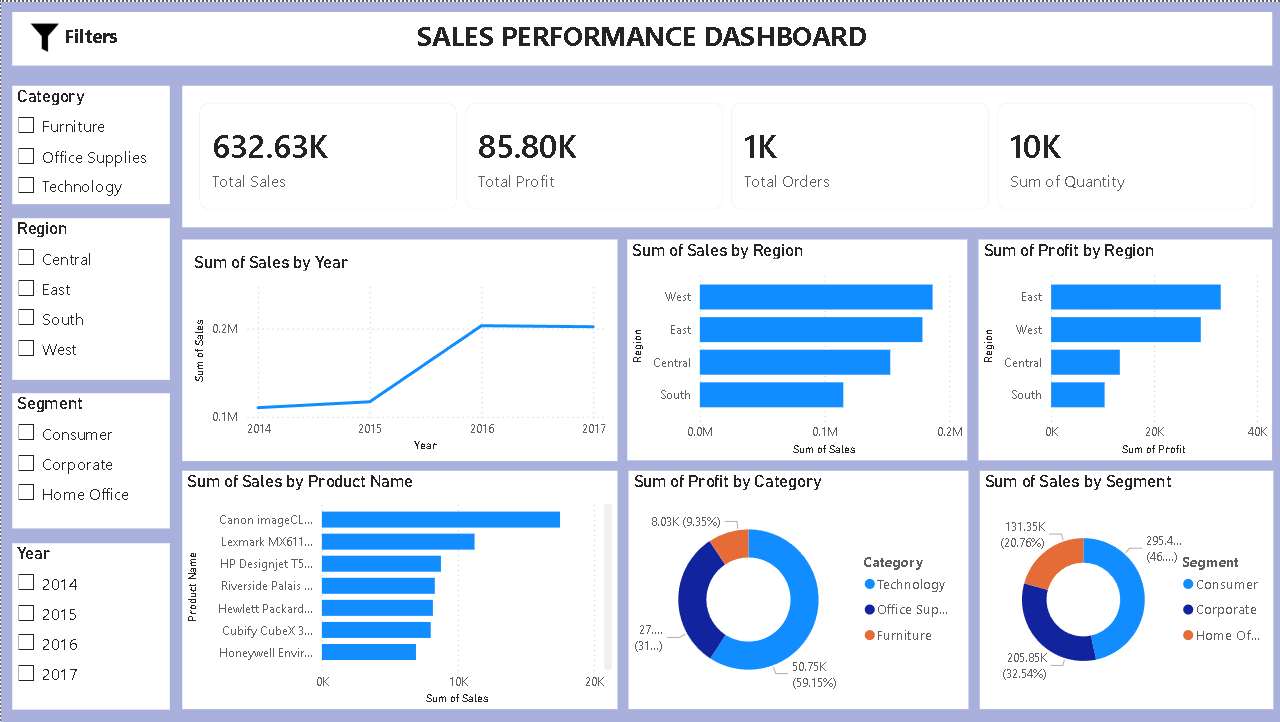

Layout of this report page (visuals, bound fields, positions):
{"tool":"powerbi","page":{"name":"Page 1","canvas":[1280,720],"ordinal":0},"visuals":[{"type":"textbox","box":[11,9.6,1259.7,53.5],"z":0},{"type":"cardVisual","fields":{"Data":["Sum(Sample - Superstore.Sales)","Sum(Sample - Superstore.Profit)","Sample - Superstore.Total Orders","Sum(Sample - Superstore.Quantity)"]},"box":[181.2,83.8,1090,141.2],"z":1000},{"type":"lineChart","fields":{"Y":["Sum(Sample - Superstore.Sales)"],"Category":["Sample - Superstore.Year"]},"box":[181.2,237.5,435,221.2],"z":2000},{"type":"clusteredBarChart","fields":{"Category":["Sample - Superstore.Region"],"Y":["Sum(Sample - Superstore.Sales)"]},"box":[626.8,237.9,340.3,220.9],"z":3000},{"type":"donutChart","fields":{"Category":["Sample - Superstore.Category"],"Y":["Sum(Sample - Superstore.Profit)"]},"box":[627.1,469.3,340.3,238.8],"z":4000},{"type":"clusteredBarChart","fields":{"Category":["Sample - Superstore.Product Name"],"Y":["Sum(Sample - Superstore.Sales)"]},"box":[181.2,468.8,435,238.8],"z":5000},{"type":"donutChart","fields":{"Category":["Sample - Superstore.Segment"],"Y":["Sum(Sample - Superstore.Sales)"]},"box":[978.4,469.3,293.7,238.8],"z":6000},{"type":"clusteredBarChart","fields":{"Category":["Sample - Superstore.Region"],"Y":["Sum(Sample - Superstore.Profit)"]},"box":[978.1,237.9,293.7,220.9],"z":7000},{"type":"listSlicer","fields":{"Values":["Sample - Superstore.Region"]},"box":[11.2,216.2,157.5,161.2],"z":8000},{"type":"textbox","box":[53.8,16.2,71.2,40],"z":9000},{"type":"listSlicer","fields":{"Values":["Sample - Superstore.Category"]},"box":[11.2,83.8,157.5,118.8],"z":10000},{"type":"listSlicer","fields":{"Values":["Sample - Superstore.Segment"]},"box":[11.2,391.2,157.5,135],"z":11000},{"type":"listSlicer","fields":{"Values":["Sample - Superstore.Year"]},"box":[11.2,541.2,157.5,166.2],"z":12000},{"type":"image","box":[25,13.8,37.5,43.8],"z":13000}]}

Visuals, with their boxes in screenshot pixels (x1, y1, x2, y2), scaled from the page's 1280x720 canvas onto the 1280x722 screenshot:
textbox: box(11, 10, 1271, 63)
cardVisual - Sum(Sample - Superstore.Sales) x Sum(Sample - Superstore.Profit): box(181, 84, 1271, 226)
lineChart - Sum(Sample - Superstore.Sales) x Sample - Superstore.Year: box(181, 238, 616, 460)
clusteredBarChart - Sample - Superstore.Region x Sum(Sample - Superstore.Sales): box(627, 239, 967, 460)
donutChart - Sample - Superstore.Category x Sum(Sample - Superstore.Profit): box(627, 471, 967, 710)
clusteredBarChart - Sample - Superstore.Product Name x Sum(Sample - Superstore.Sales): box(181, 470, 616, 710)
donutChart - Sample - Superstore.Segment x Sum(Sample - Superstore.Sales): box(978, 471, 1272, 710)
clusteredBarChart - Sample - Superstore.Region x Sum(Sample - Superstore.Profit): box(978, 239, 1272, 460)
listSlicer - Sample - Superstore.Region: box(11, 217, 169, 378)
textbox: box(54, 16, 125, 56)
listSlicer - Sample - Superstore.Category: box(11, 84, 169, 203)
listSlicer - Sample - Superstore.Segment: box(11, 392, 169, 528)
listSlicer - Sample - Superstore.Year: box(11, 543, 169, 709)
image: box(25, 14, 62, 58)
